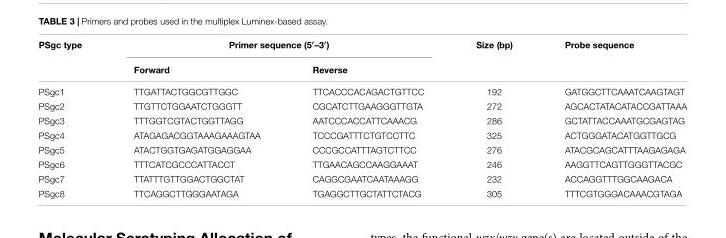table: (37, 37, 686, 198)
table column: (107, 37, 285, 198), (285, 37, 449, 198), (537, 37, 686, 198), (449, 37, 537, 198), (37, 37, 107, 198)
table column header: (37, 37, 686, 79)
table row: (37, 56, 686, 79), (37, 37, 686, 56), (37, 79, 686, 98), (37, 112, 686, 127), (37, 141, 686, 156), (37, 170, 686, 185), (37, 98, 686, 112), (37, 127, 686, 141), (37, 156, 686, 170), (37, 185, 686, 198)
table spanning cell: (107, 37, 449, 56), (537, 37, 686, 79), (449, 37, 537, 79), (37, 37, 107, 79)
